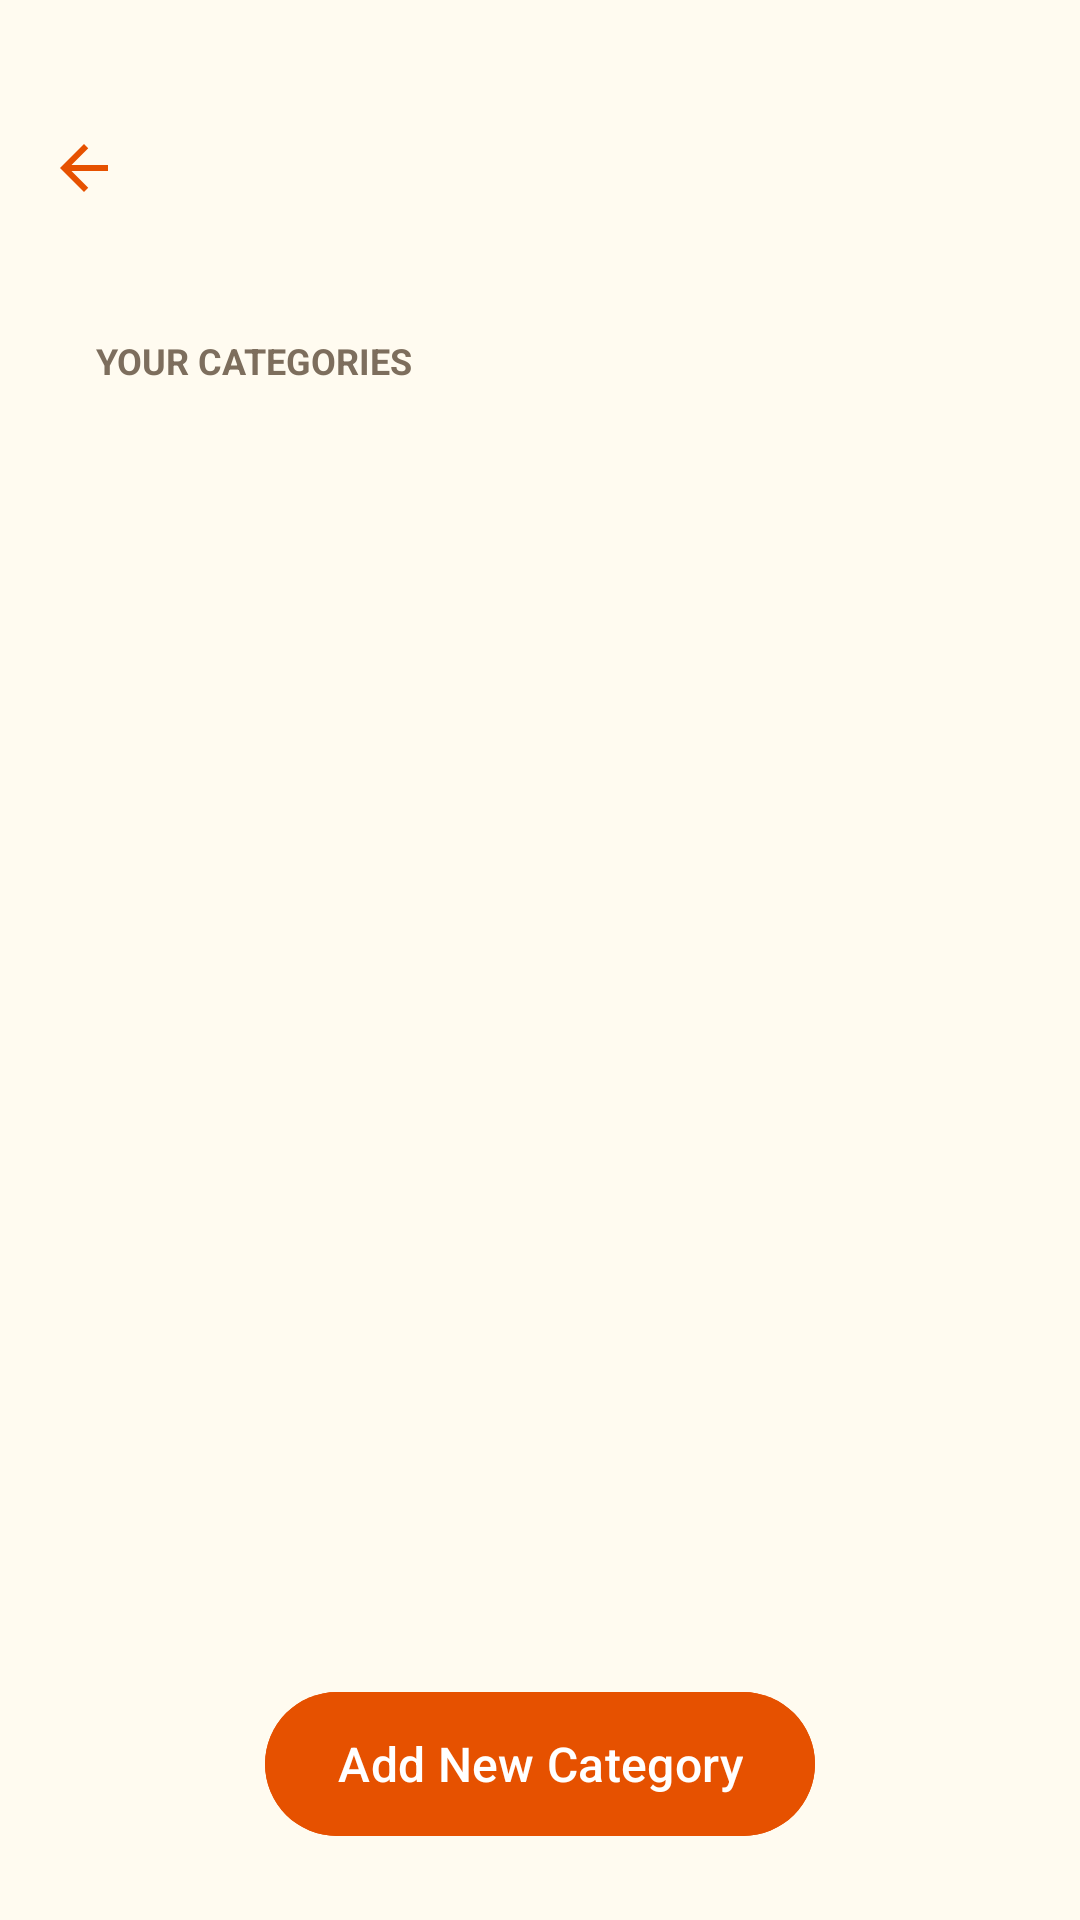

Named icons in this screenshot (1080*1920) and their bounding boxes, (x1, y1, x2, y2):
Back: (60, 144, 108, 192)
